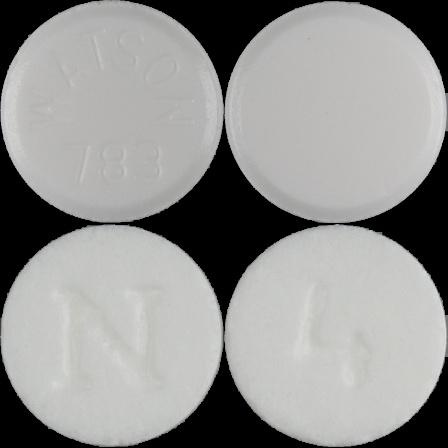50090-0326: (0, 0, 224, 224)
